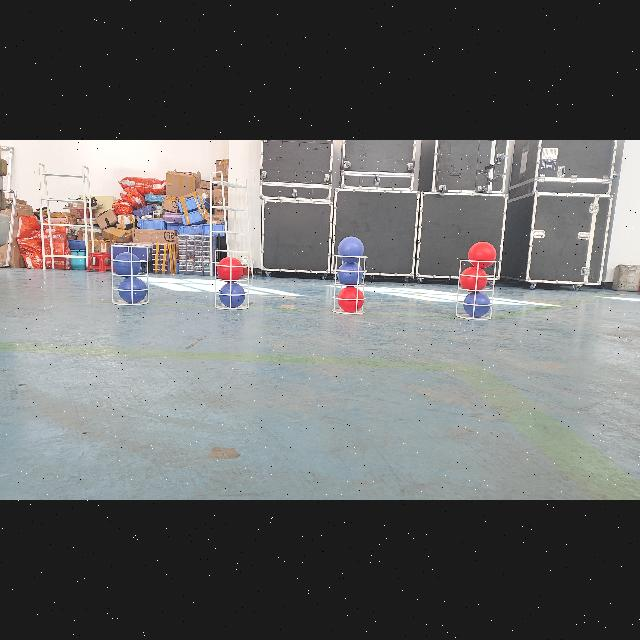B: (118, 278, 148, 304), (461, 291, 491, 317), (216, 283, 244, 309), (337, 235, 363, 262), (114, 252, 140, 278), (338, 262, 362, 286)
R: (468, 242, 497, 268), (216, 256, 244, 282), (459, 266, 486, 292), (338, 286, 364, 312)
S: (454, 256, 502, 324), (106, 242, 154, 308), (326, 250, 372, 316), (210, 248, 252, 312)
